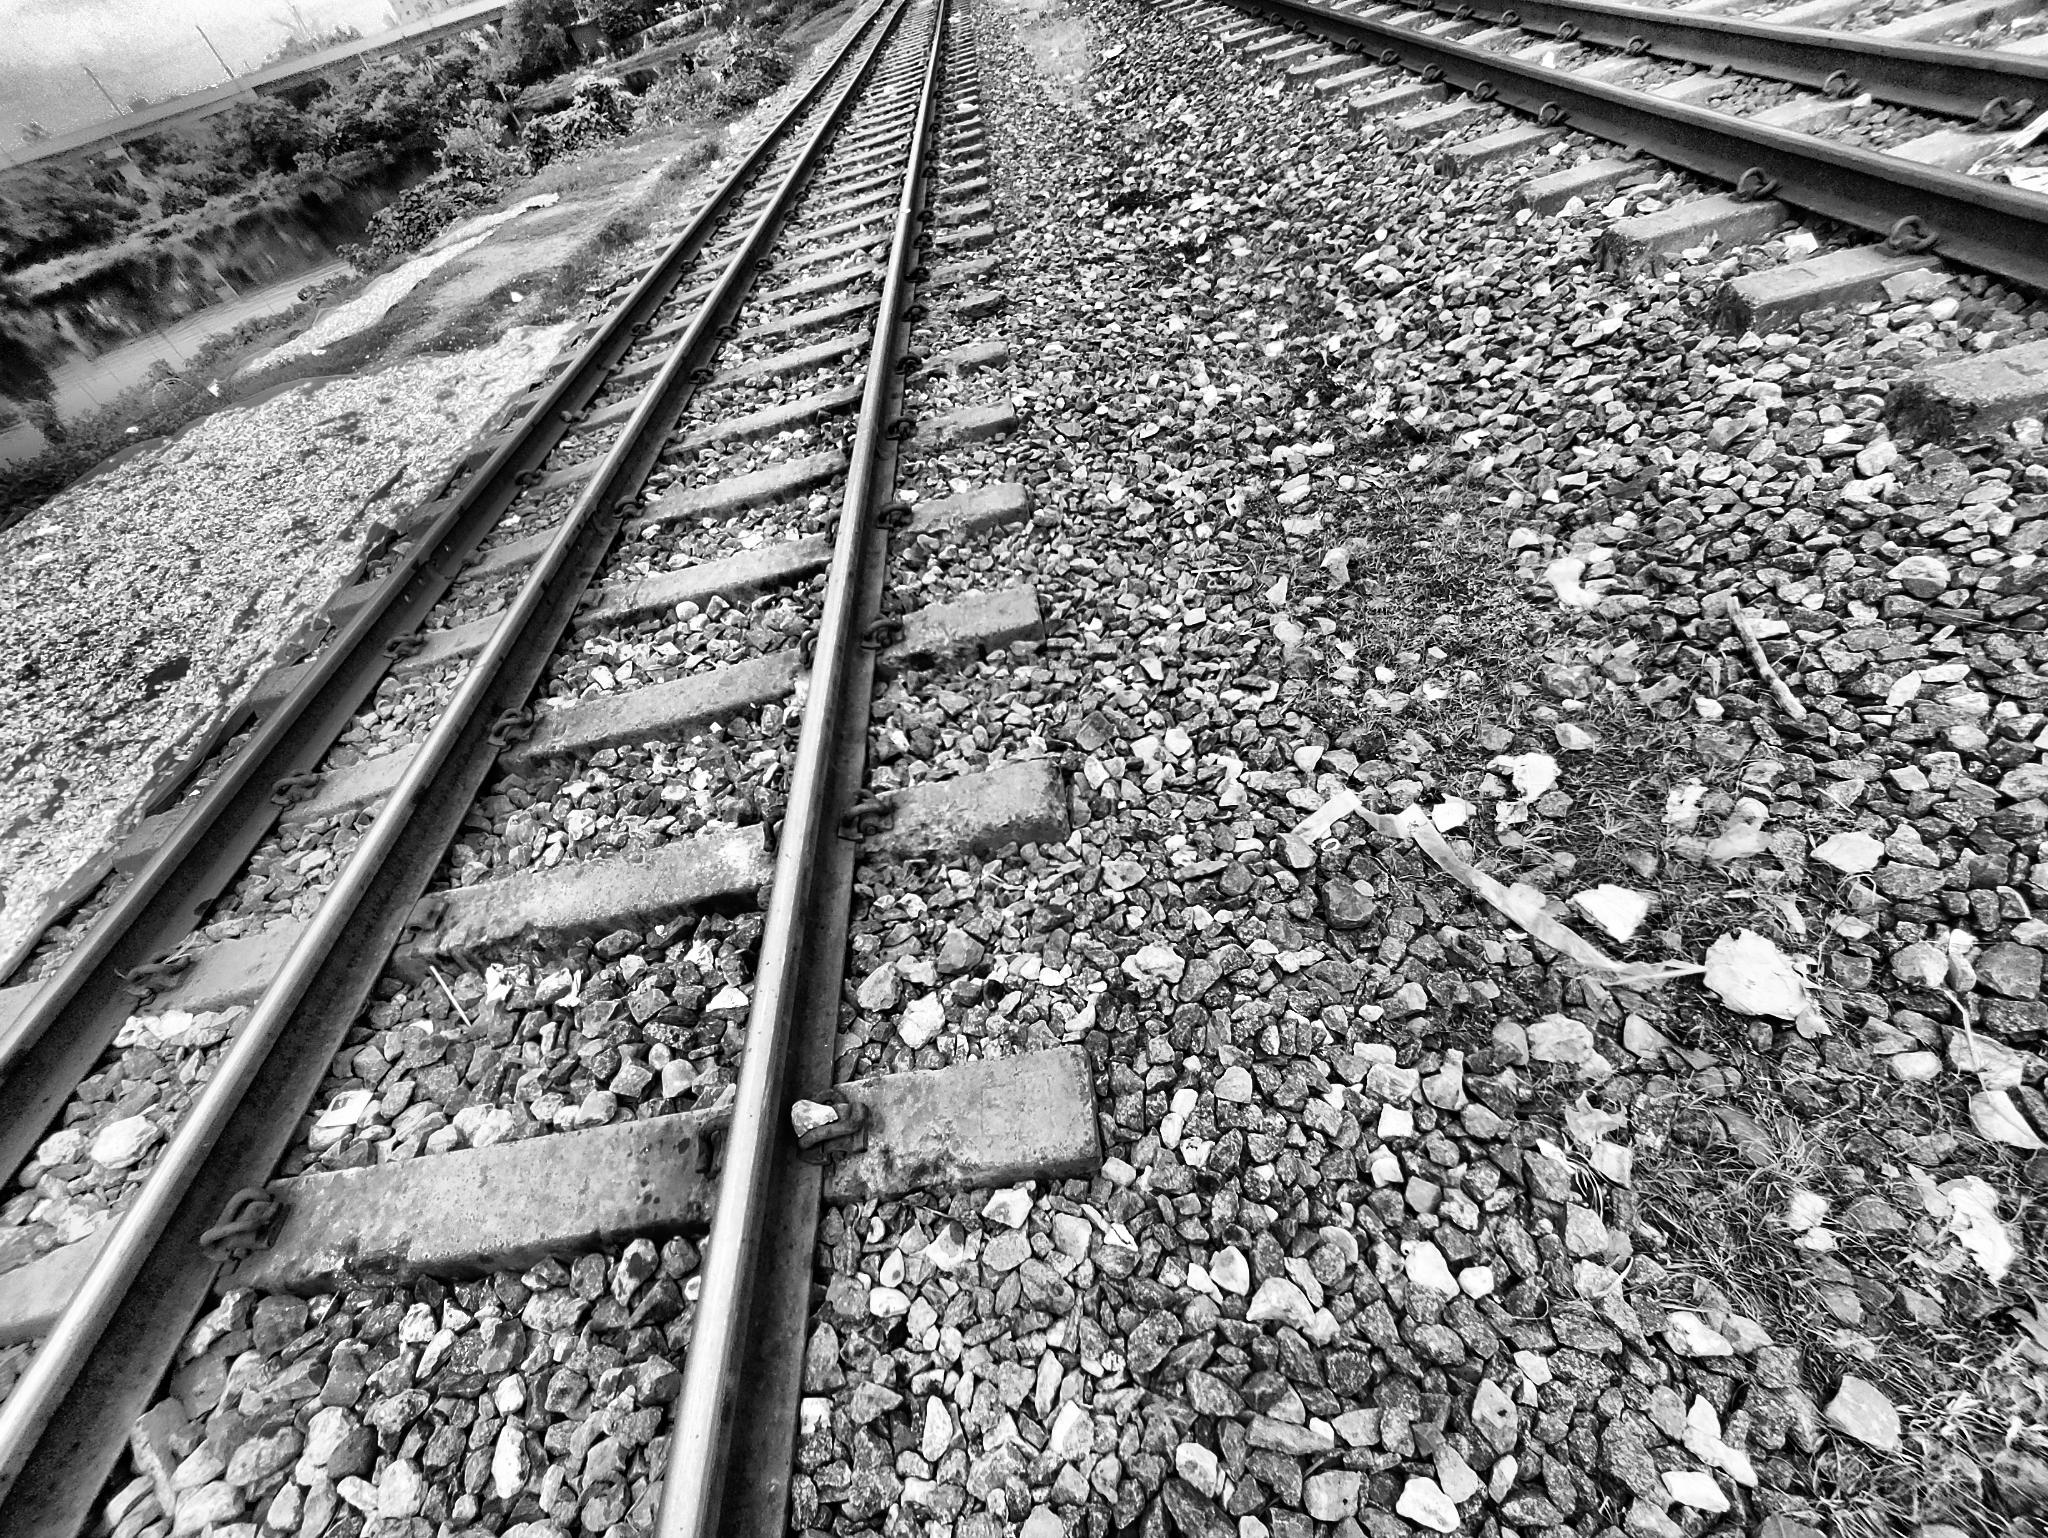Trash: (1290, 775, 1715, 1002), (422, 960, 481, 1032), (581, 265, 656, 302)
